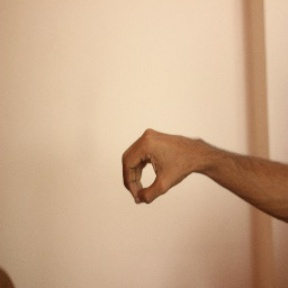O: (120, 125, 193, 205)
